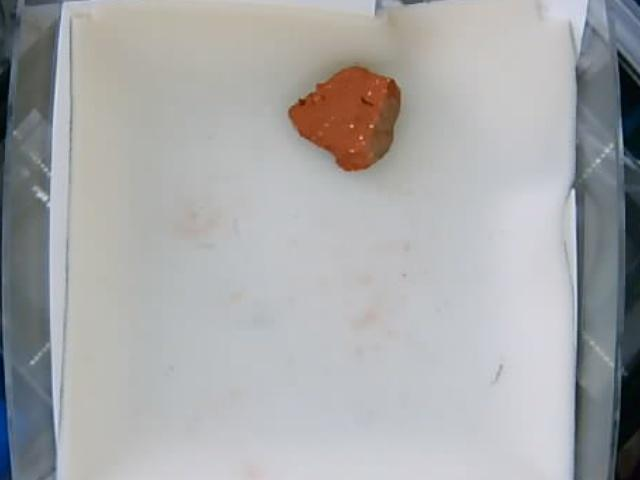Brisk: (290, 64, 400, 178)
